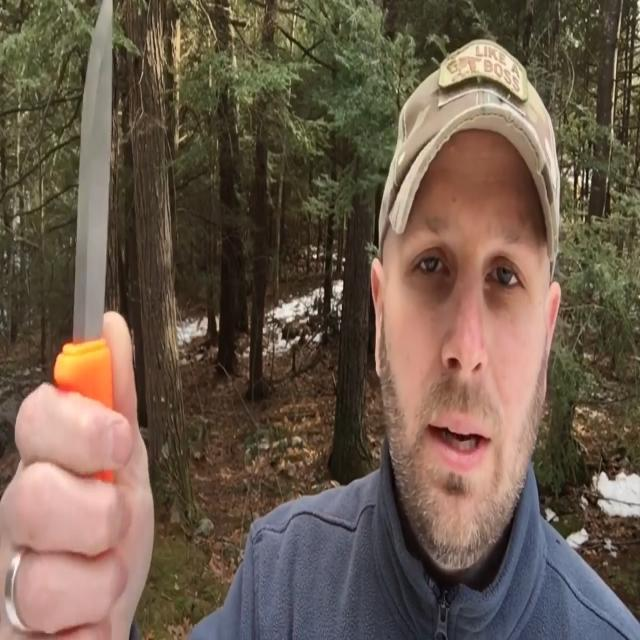knife: (55, 3, 121, 413)
